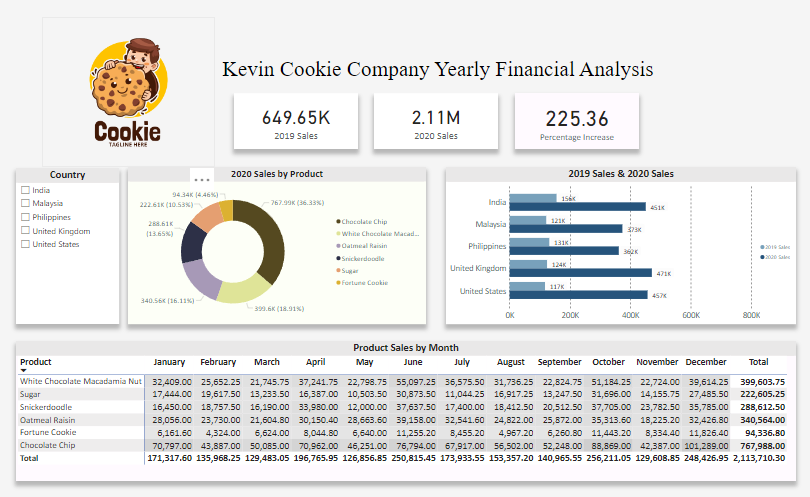

What the dashboard file says about the page in this screenshot:
{"tool":"powerbi","page":{"name":"Page 1","canvas":[2040,1250],"ordinal":0},"visuals":[{"type":"clusteredBarChart","title":"2019 Sales & 2020 Sales","fields":{"Category":["Data.Country"],"Y":["Data.2019 Sales","Data.2020 Sales"]},"box":[1117.5,422.5,875,392.5],"z":0},{"type":"pivotTable","title":"Product Sales by Month","fields":{"Columns":["Data.Date.Variation.Date Hierarchy.Month"],"Rows":["Data.Product"],"Values":["Data.2020 Sales"]},"box":[42.5,857.5,1950,350],"z":1000},{"type":"slicer","title":"Country","fields":{"Values":["Data.Country"]},"box":[42.5,425,257.5,390],"z":2000},{"type":"card","fields":{"Values":["Data.2019 Sales"]},"box":[587.5,237.5,310,140],"z":3000},{"type":"card","fields":{"Values":["Data.2020 Sales"]},"box":[937.5,237.5,310,140],"z":4000},{"type":"textbox","box":[517.5,125,1160,112.5],"z":5000},{"type":"donutChart","fields":{"Category":["Data.Product"],"Y":["Data.2020 Sales"]},"box":[322.5,422.5,745,392.5],"z":6000},{"type":"card","fields":{"Values":["Data.Percentage Increase"]},"box":[1290,237.5,310,140],"z":7000},{"type":"image","box":[106.7,46.7,433.3,376.7],"z":8000}]}

Visuals, with their boxes in screenshot pixels (x1, y1, x2, y2), scaled from the page's 2040x1250 canvas onto the 810x497 screenshot:
"2019 Sales & 2020 Sales" clusteredBarChart: 444, 168, 791, 324
"Product Sales by Month" pivotTable: 17, 341, 791, 480
"Country" slicer: 17, 169, 119, 324
card - Data.2019 Sales: 233, 94, 356, 150
card - Data.2020 Sales: 372, 94, 495, 150
textbox: 205, 50, 666, 94
donutChart - Data.Product x Data.2020 Sales: 128, 168, 424, 324
card - Data.Percentage Increase: 512, 94, 635, 150
image: 42, 19, 214, 168
